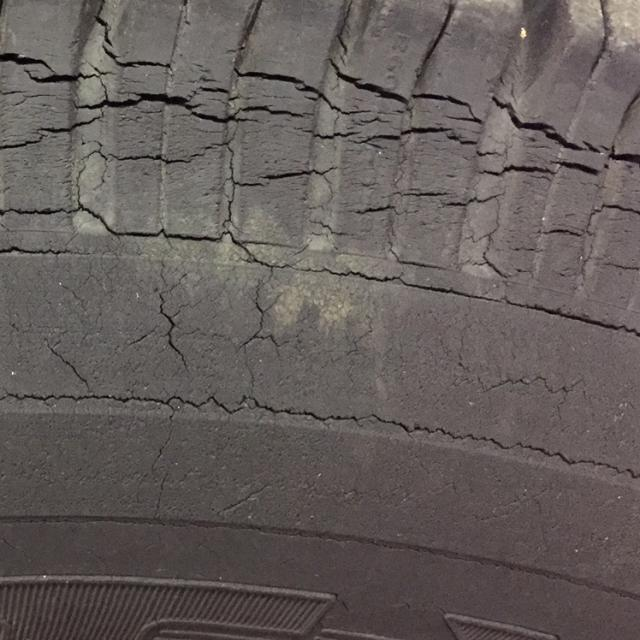Cracks: (0, 0, 640, 519)
